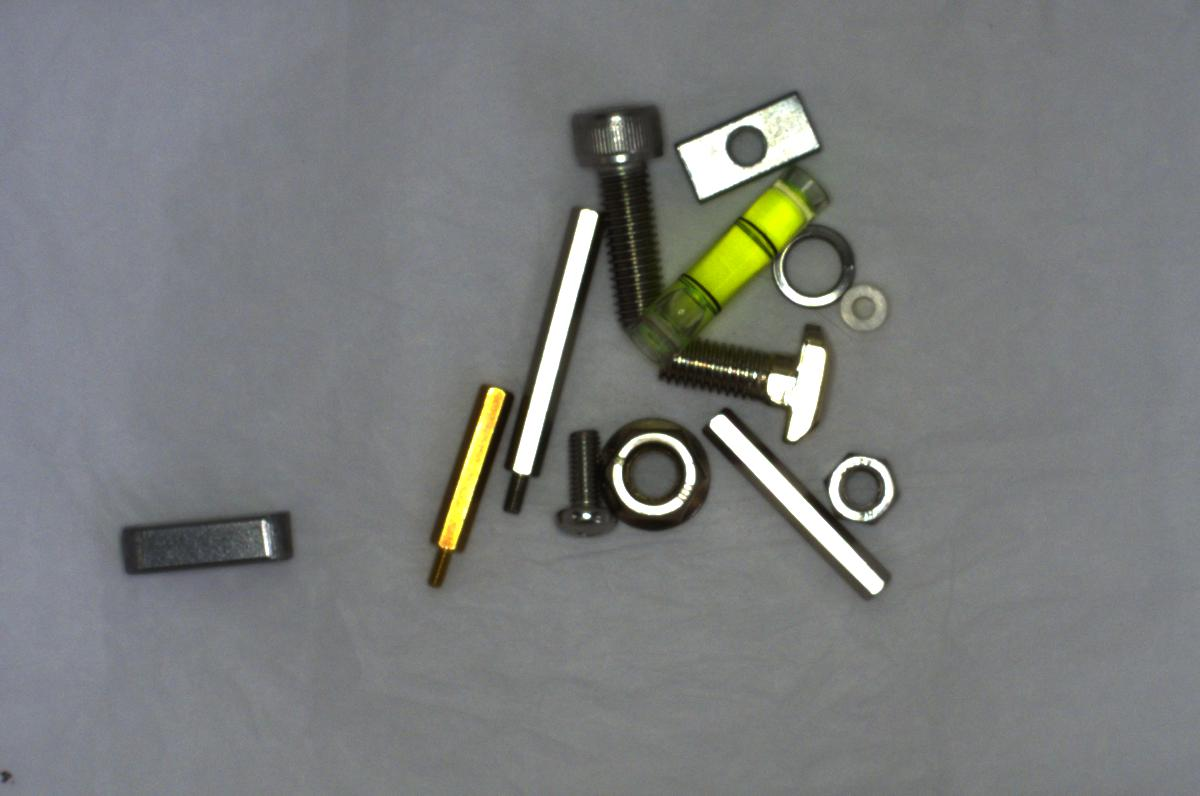Double hexagonal column: (696, 398, 900, 606)
Flange nut: (598, 413, 714, 530)
Hexagon nut: (812, 435, 907, 528)
Hexagon pillar: (416, 372, 515, 598)
Hexagon screw: (566, 91, 682, 330)
Hexagonal steel column: (473, 192, 619, 515)
Horizontal bubble: (657, 171, 833, 339)
Keybar: (107, 499, 323, 587)
Plastic cushion pillar: (835, 280, 894, 336)
Rectangular nut: (664, 78, 837, 206)
Round head screw: (557, 422, 619, 550)
Spring washer: (764, 213, 858, 309)
T-shaped screw: (646, 317, 852, 446)
